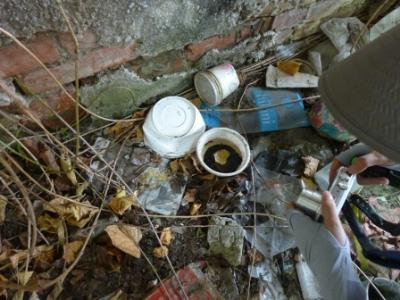bucket: (140, 95, 206, 162), (196, 126, 251, 177), (192, 60, 243, 108)
